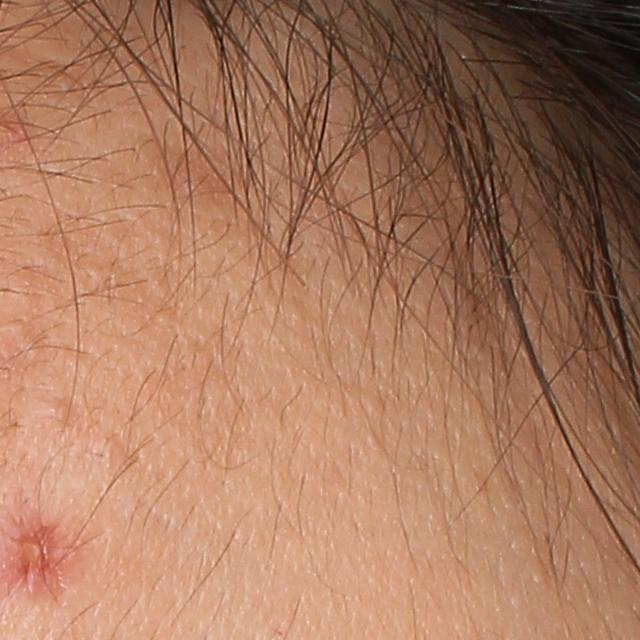comedo: (44, 394, 76, 422)
